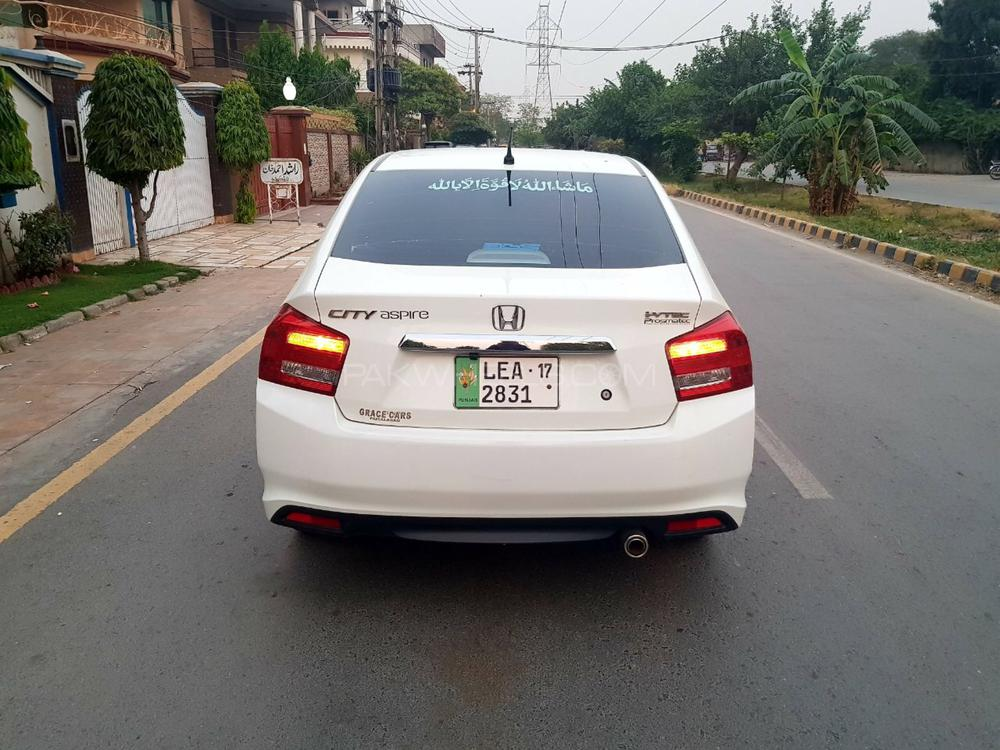plate: (451, 349, 563, 413)
